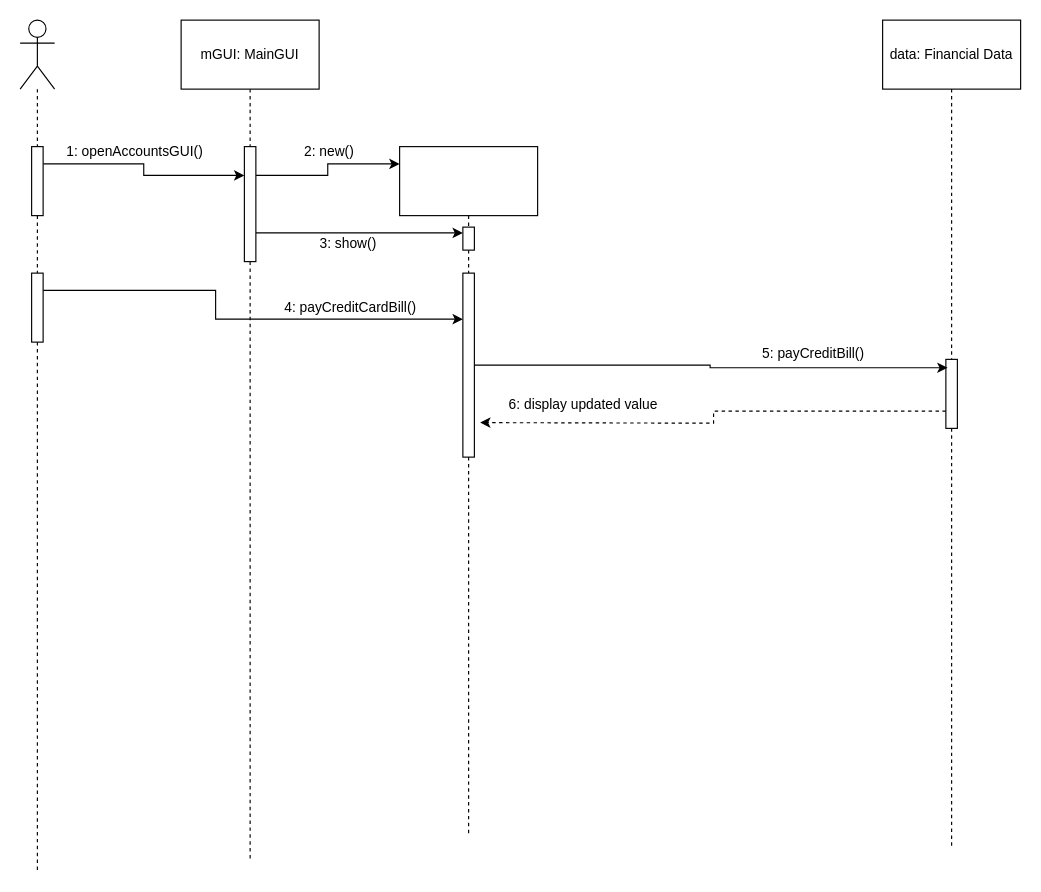
Image size: 1041x892. Some labels were removed from this diagram. The centre of each missing label's shape, as x and y in pixels:
"accountGUI: AccountsGUI" belongs at point 468,180.
"Actor" belongs at point 37,54.
